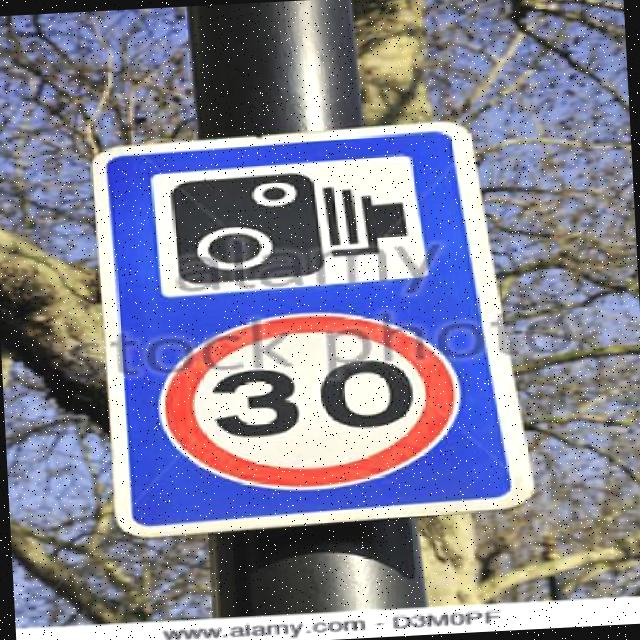Ograniczenie predkosci do 30: (158, 306, 462, 495)
